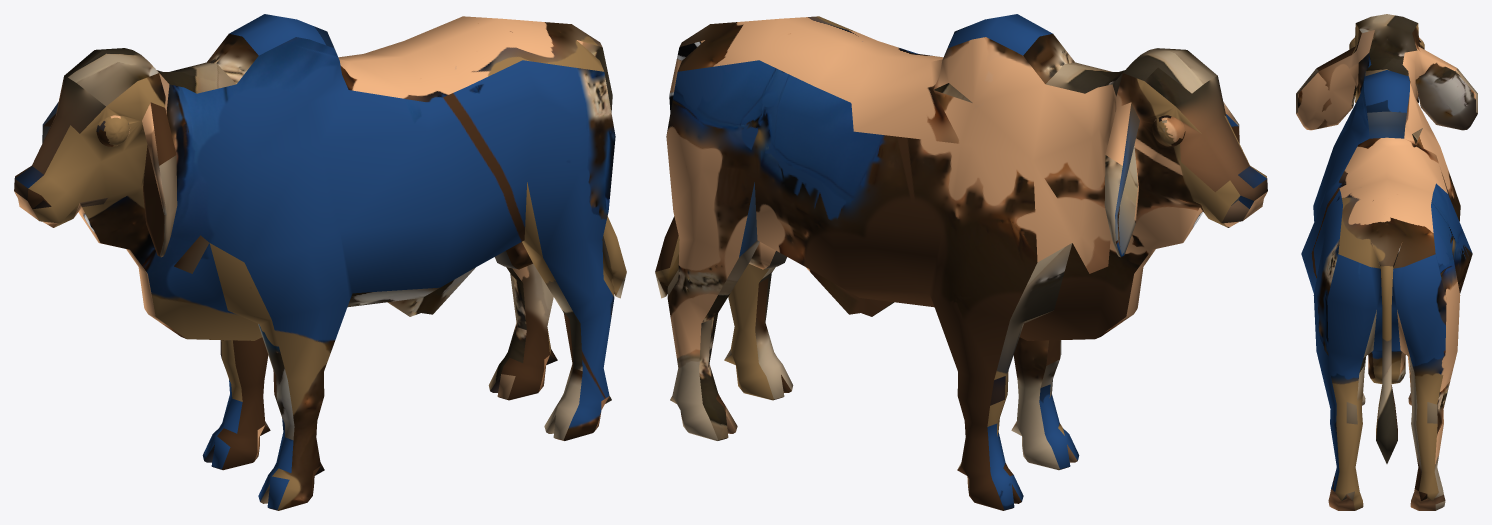
Rendered from Vaca2.fbx.
The picture shows the model from 3 angles, left to right: view 1: azimuth 30°, elevation 25°; view 2: azimuth 150°, elevation 25°; view 3: azimuth 270°, elevation 25°; orthographic projection. The views are drawn at different scales.
Visible parts, largest first — view 1: mesh_rep_0_ori_repair_quad; view 2: mesh_rep_0_ori_repair_quad; view 3: mesh_rep_0_ori_repair_quad.
Boxes of the visible parts, x1,y1,x2,y2 form: mesh_rep_0_ori_repair_quad: [14, 14, 626, 510]; mesh_rep_0_ori_repair_quad: [655, 14, 1267, 510]; mesh_rep_0_ori_repair_quad: [1296, 14, 1477, 510].
Bounding box in the file's own units: 108 × 79.43 × 38.82.
